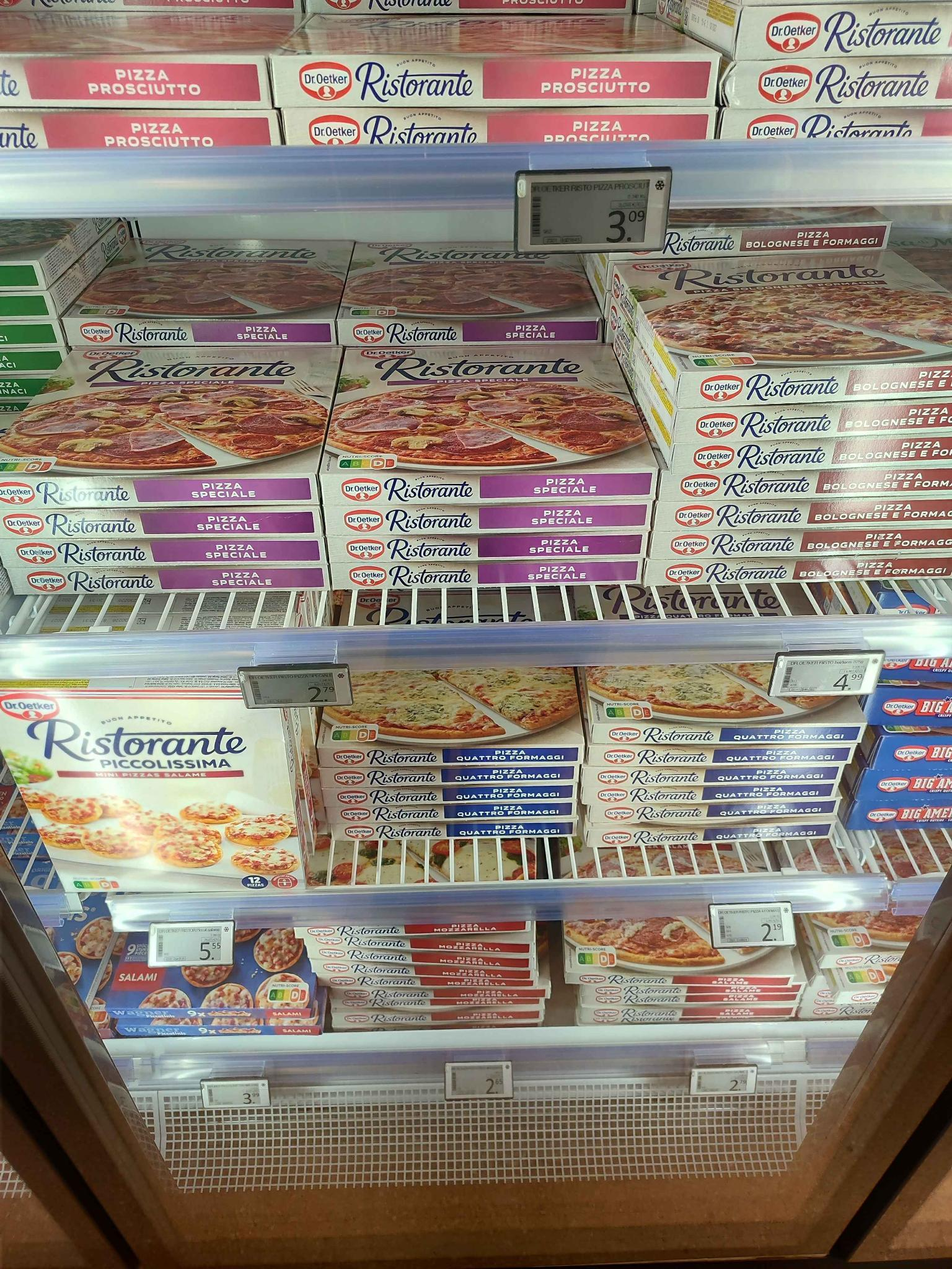nutri_C: (692, 354, 755, 368)
nutri_D: (338, 451, 398, 470), (607, 700, 656, 722), (334, 726, 381, 745)
shelf_bottom: (1, 914, 949, 1091)
shelf_middle: (1, 215, 944, 897)
shelf_top: (0, 2, 948, 200)
